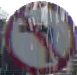Don't turn left: (3, 3, 76, 74)
